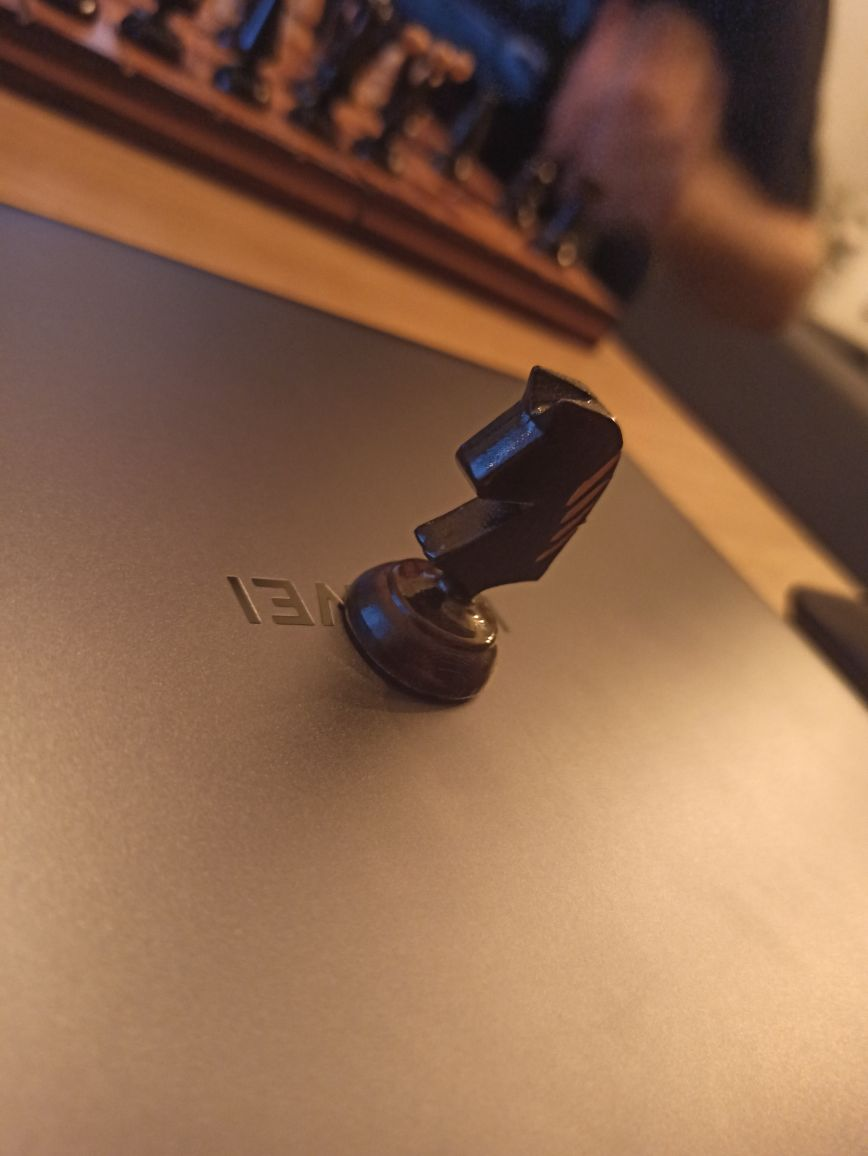bknight: (342, 361, 626, 715)
